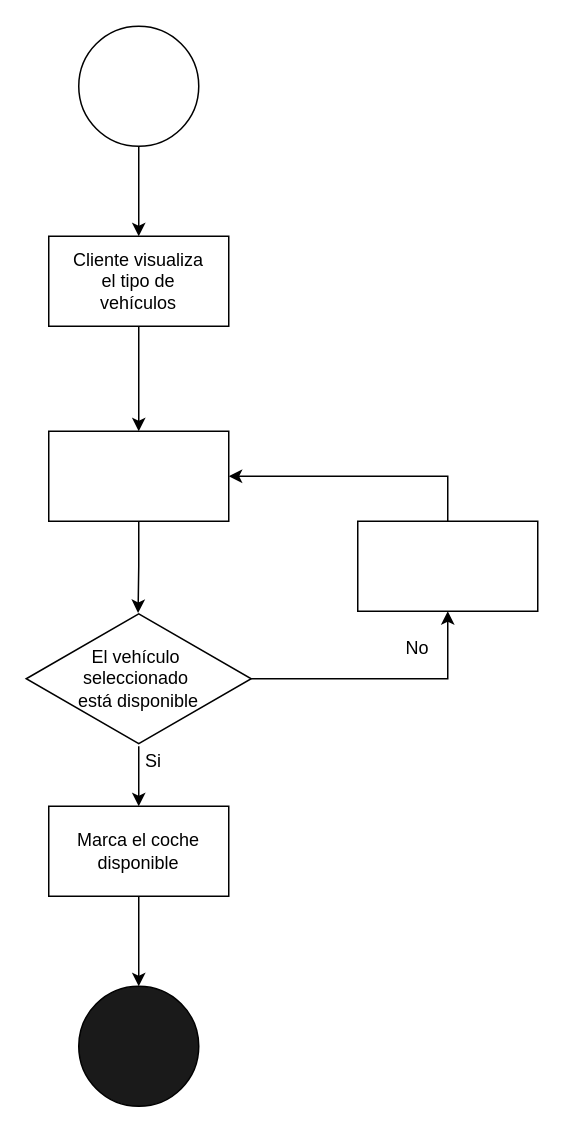
Image size: 564x1133. Some labels were removed from this diagram. Here are the shapes that lost their labels. From the top down, the centre of each, then its label:
At point (138, 475): "Cliente selecciona un tipo de vehículos".
At point (447, 565): "Escoge de nuevo un tipo de vehículo".
